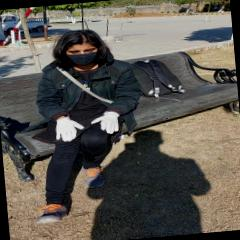gloved: (54, 116, 83, 142), (90, 111, 120, 136)
